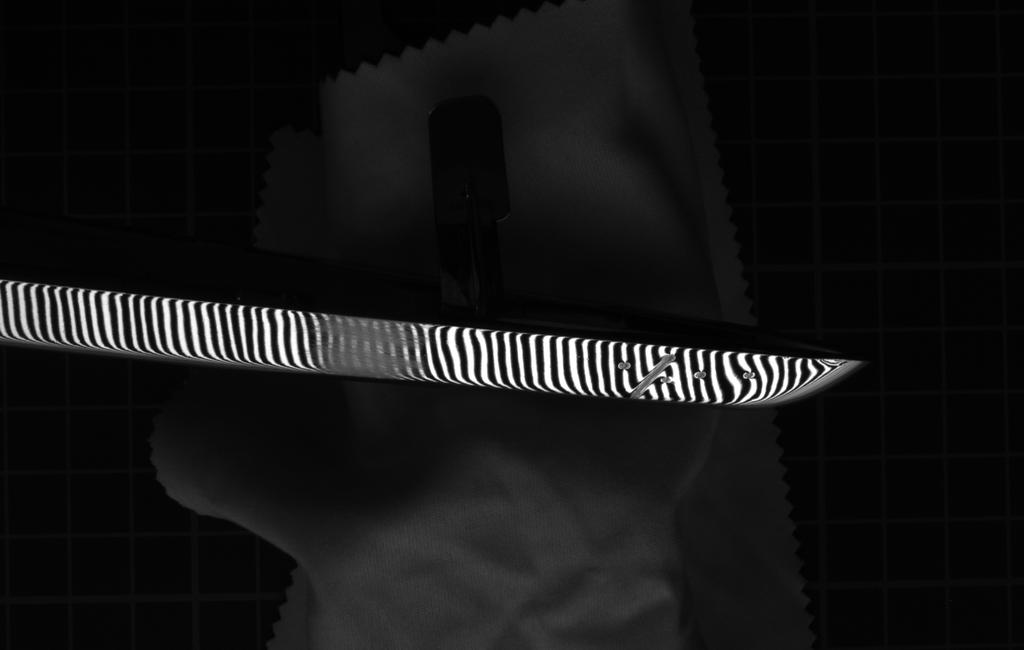Pierced: (739, 364, 762, 383), (617, 357, 635, 377), (689, 365, 708, 383), (658, 374, 677, 384)
Pitting: (302, 303, 436, 387)
Scratch: (629, 351, 681, 401)
